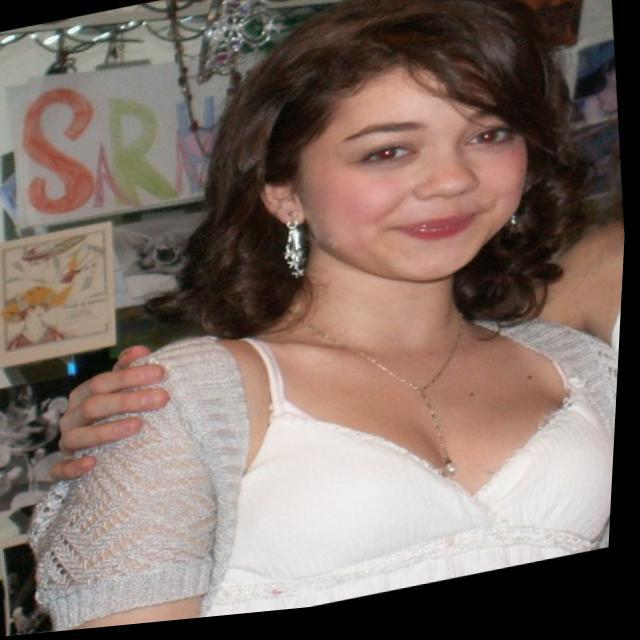Nonhelmet: (250, 0, 554, 282)
